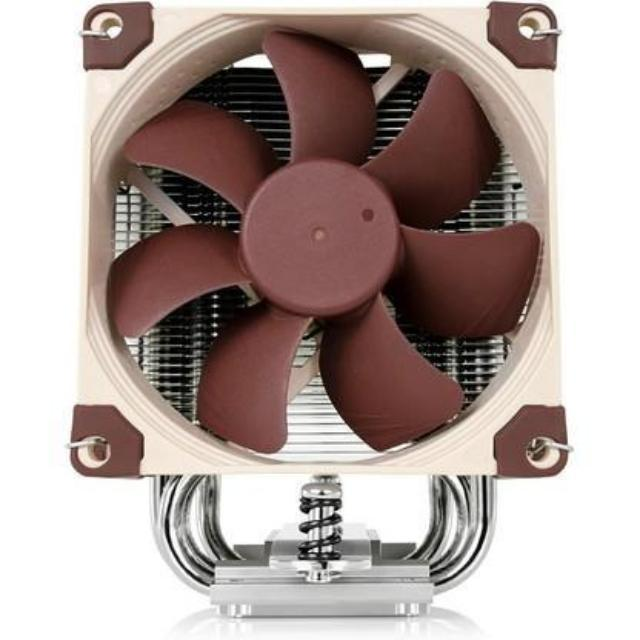CPU_Fan: (76, 0, 578, 620)
